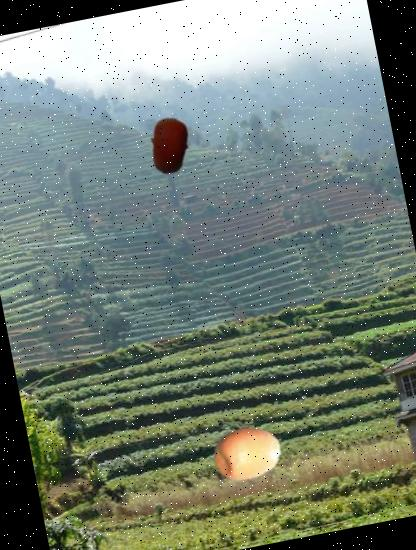Kumquats: (206, 413, 288, 494)
Nectarine: (136, 112, 202, 179)
